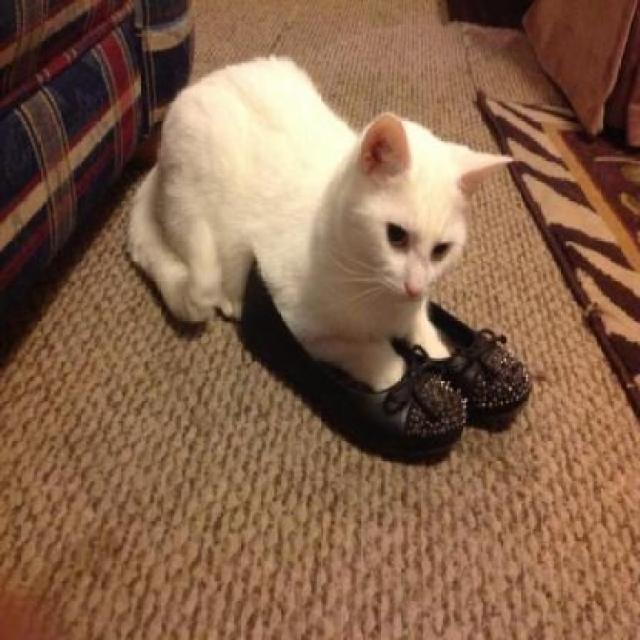cat: (118, 24, 520, 393)
